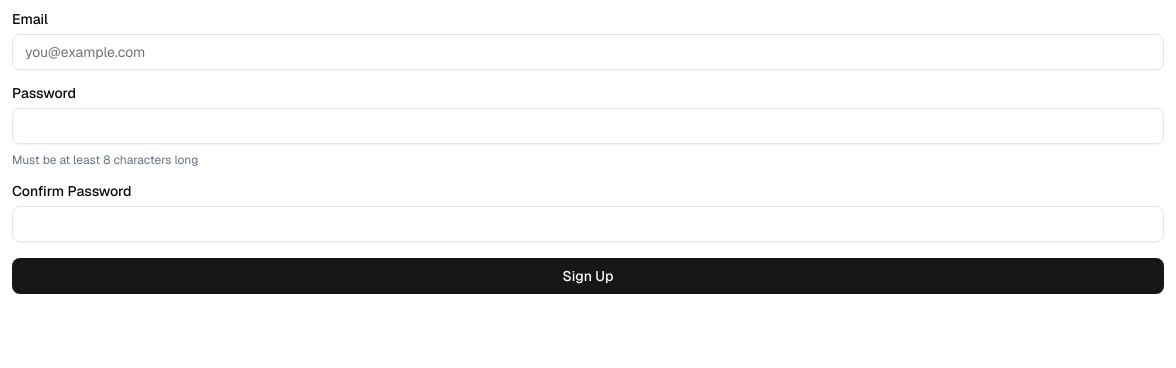
Scenario: SignUpForm › displays server error
Type "a@b.com" into the field labelled "Email".
click(588, 52); type("a@b.com")  # box [12,34,1164,70]
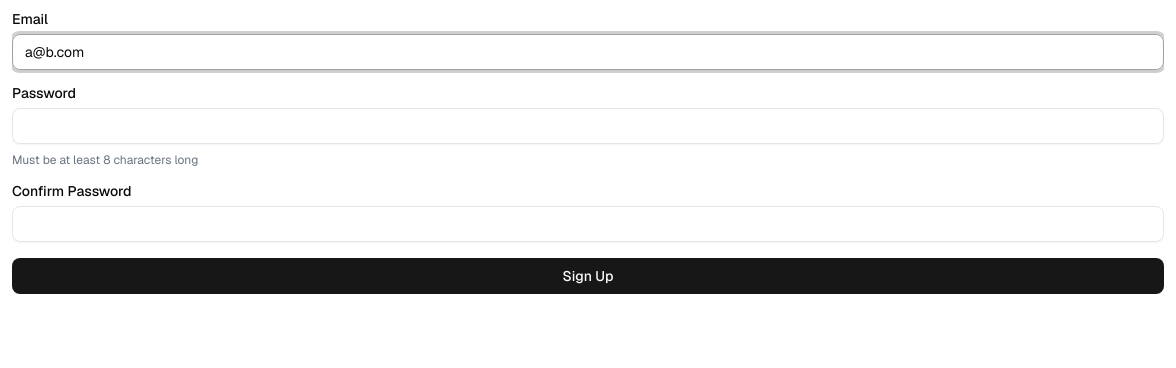
Type "password1" into the password field labelled "Password".
click(588, 126); type("password1")  # box [12,108,1164,144]
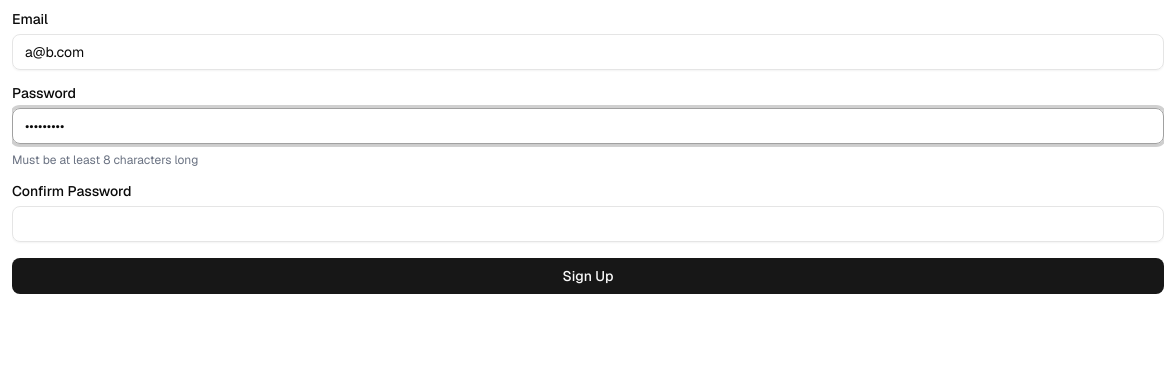
Type "password1" into the password field labelled "Confirm Password".
click(588, 224); type("password1")  # box [12,206,1164,242]
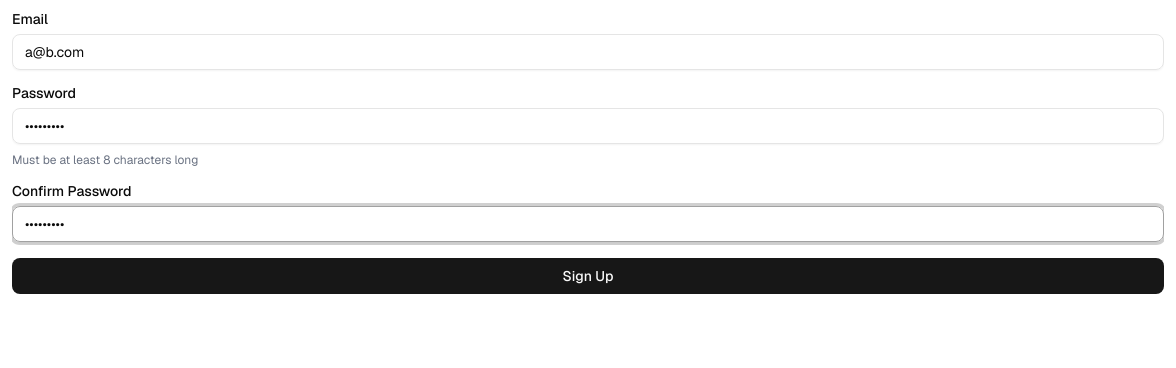
Click the button "Sign Up".
click(588, 276)  # box [12,258,1164,294]
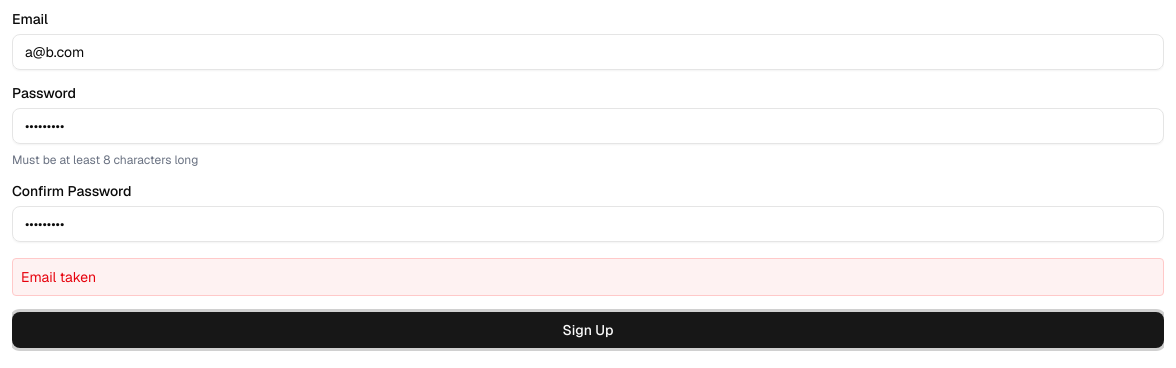
Now the text "Email taken" is shown, box [12,258,1164,296]
